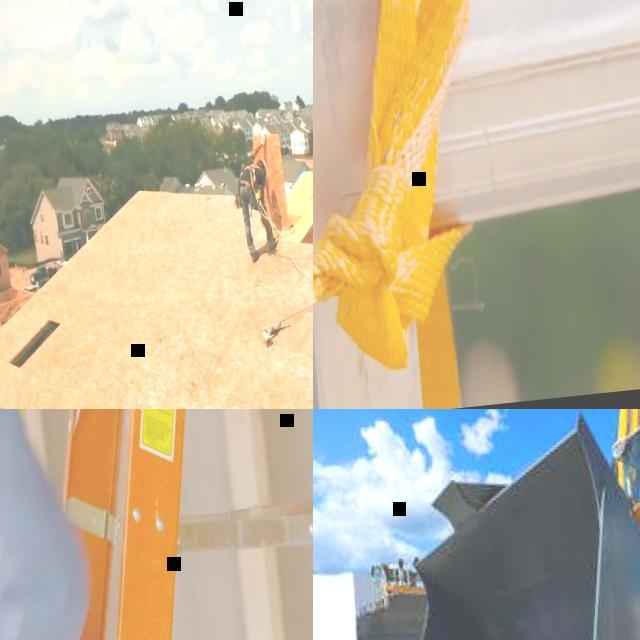Hardhat: (260, 158, 268, 176)
NO-Safety Vest: (238, 163, 262, 190)
Person: (0, 409, 117, 640), (236, 158, 280, 262)
machinery: (328, 409, 640, 640)
